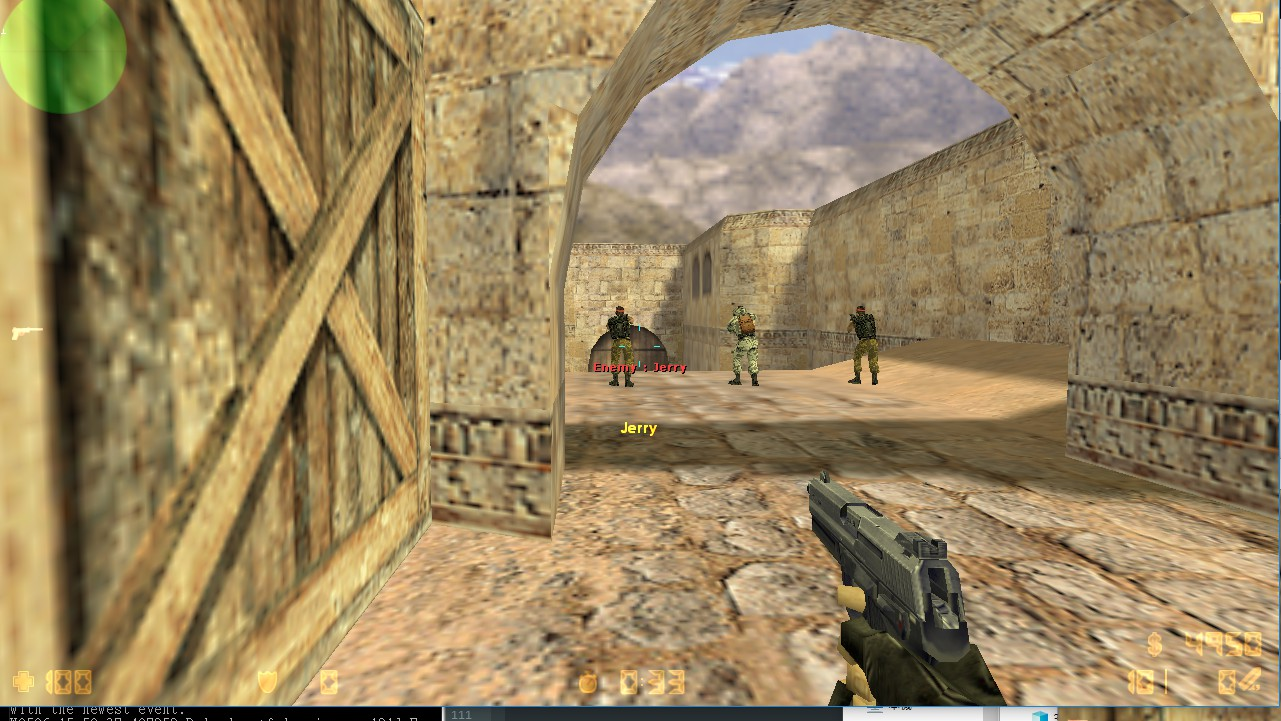person: (724, 298, 769, 388), (842, 299, 885, 391), (603, 303, 642, 394)
